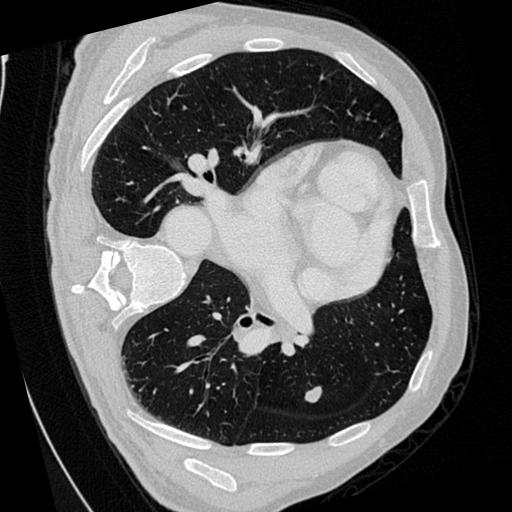nodule: (304, 384, 329, 409)
